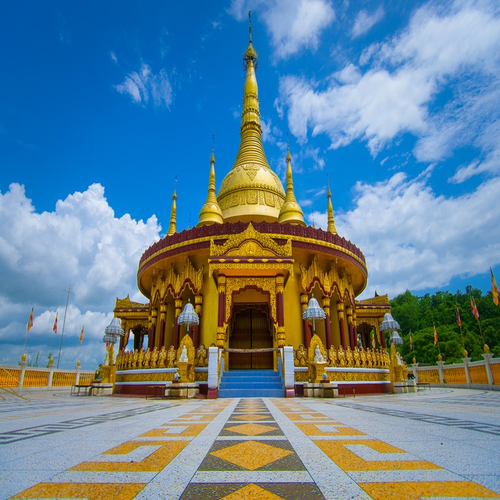Temple: (103, 30, 401, 382)
